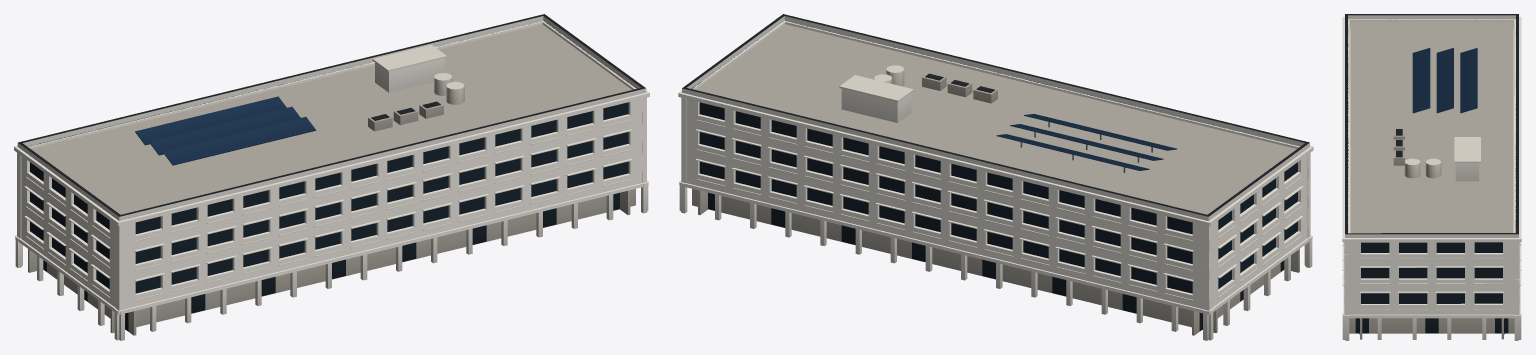
The model's file is skc_block.glb.
3 renders of one model, left to right at view 1: azimuth 30°, elevation 25°; view 2: azimuth 150°, elevation 25°; view 3: azimuth 270°, elevation 25°, orthographic. The views are drawn at different scales.
Visible parts, largest first — view 1: LOD0_High_StuccoWhite, LOD0_High_RoofSlabConcrete, LOD1_Medium_RecessedCavityGlass, LOD1_Medium_StuccoWhite, LOD0_High_StuccoWarmTrim, LOD0_High_SolarPV, LOD0_High_DarkAnodizedSteel, LOD0_High_RecessedCavityGlass; view 2: LOD0_High_StuccoWhite, LOD0_High_RoofSlabConcrete, LOD1_Medium_RecessedCavityGlass, LOD1_Medium_StuccoWhite, LOD0_High_StuccoWarmTrim, LOD0_High_DarkAnodizedSteel, LOD0_High_SolarPV, LOD0_High_RecessedCavityGlass; view 3: LOD0_High_RoofSlabConcrete, LOD0_High_StuccoWhite, LOD1_Medium_StuccoWhite, LOD1_Medium_RecessedCavityGlass, LOD0_High_StuccoWarmTrim, LOD0_High_SolarPV, LOD0_High_DarkAnodizedSteel, LOD0_High_RecessedCavityGlass, LOD0_High_WarmAtriumInterior.
Part boxes in pixels (x1,y1,x2,y2): LOD0_High_StuccoWhite: [14, 16, 649, 340]; LOD0_High_RoofSlabConcrete: [31, 24, 631, 214]; LOD1_Medium_RecessedCavityGlass: [28, 22, 628, 293]; LOD1_Medium_StuccoWhite: [17, 21, 646, 310]; LOD0_High_StuccoWarmTrim: [25, 44, 635, 335]; LOD0_High_SolarPV: [135, 96, 316, 165]; LOD0_High_DarkAnodizedSteel: [18, 14, 645, 216]; LOD0_High_RecessedCavityGlass: [43, 192, 619, 331]; LOD0_High_StuccoWhite: [678, 16, 1313, 340]; LOD0_High_RoofSlabConcrete: [696, 24, 1296, 214]; LOD1_Medium_RecessedCavityGlass: [692, 23, 1297, 293]; LOD1_Medium_StuccoWhite: [681, 99, 1310, 310]; LOD0_High_StuccoWarmTrim: [692, 65, 1301, 335]; LOD0_High_DarkAnodizedSteel: [682, 14, 1309, 216]; LOD0_High_SolarPV: [996, 114, 1176, 170]; LOD0_High_RecessedCavityGlass: [708, 192, 1284, 330]; LOD0_High_RoofSlabConcrete: [1350, 22, 1513, 233]; LOD0_High_StuccoWhite: [1342, 15, 1521, 340]; LOD1_Medium_StuccoWhite: [1344, 20, 1519, 314]; LOD1_Medium_RecessedCavityGlass: [1348, 19, 1515, 303]; LOD0_High_StuccoWarmTrim: [1344, 137, 1519, 339]; LOD0_High_SolarPV: [1412, 48, 1477, 113]; LOD0_High_DarkAnodizedSteel: [1345, 14, 1518, 234]; LOD0_High_RecessedCavityGlass: [1355, 318, 1508, 334]; LOD0_High_WarmAtriumInterior: [1350, 28, 1513, 232].
Bounding box in the file's own units: 70.49 × 17.97 × 23.98.
